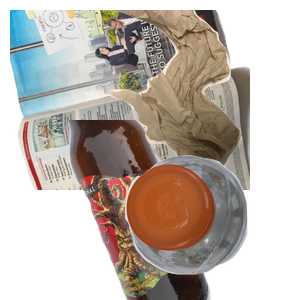glass: (65, 120, 300, 300)
paper: (10, 10, 250, 190)
plastic: (123, 152, 300, 300)
trash: (103, 10, 300, 173)
